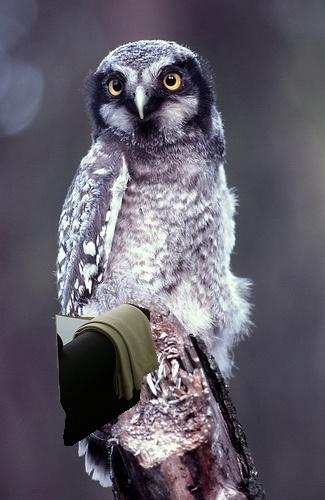tampered: (56, 303, 159, 446)
